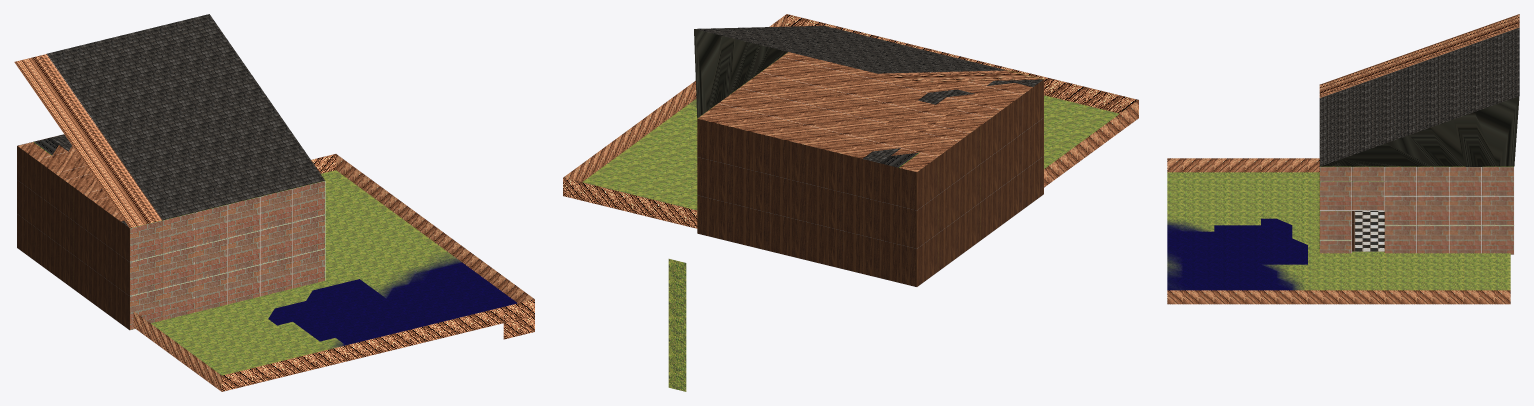
The model's file is tileroomtest2.glb.
3 views of the same model, side by side, from view 1: azimuth 30°, elevation 25°; view 2: azimuth 150°, elevation 25°; view 3: azimuth 270°, elevation 25° (orthographic). The views are drawn at different scales.
Parts seen in each view (by area): view 1: Plane; view 2: Plane; view 3: Plane.
Part boxes in pixels (x1,y1,x2,y2): Plane: [14, 14, 534, 391]; Plane: [563, 14, 1138, 391]; Plane: [1167, 14, 1519, 304].
Bounding box in the file's own units: 20.24 × 20.11 × 22.57.
2 materials, 2 textured.
